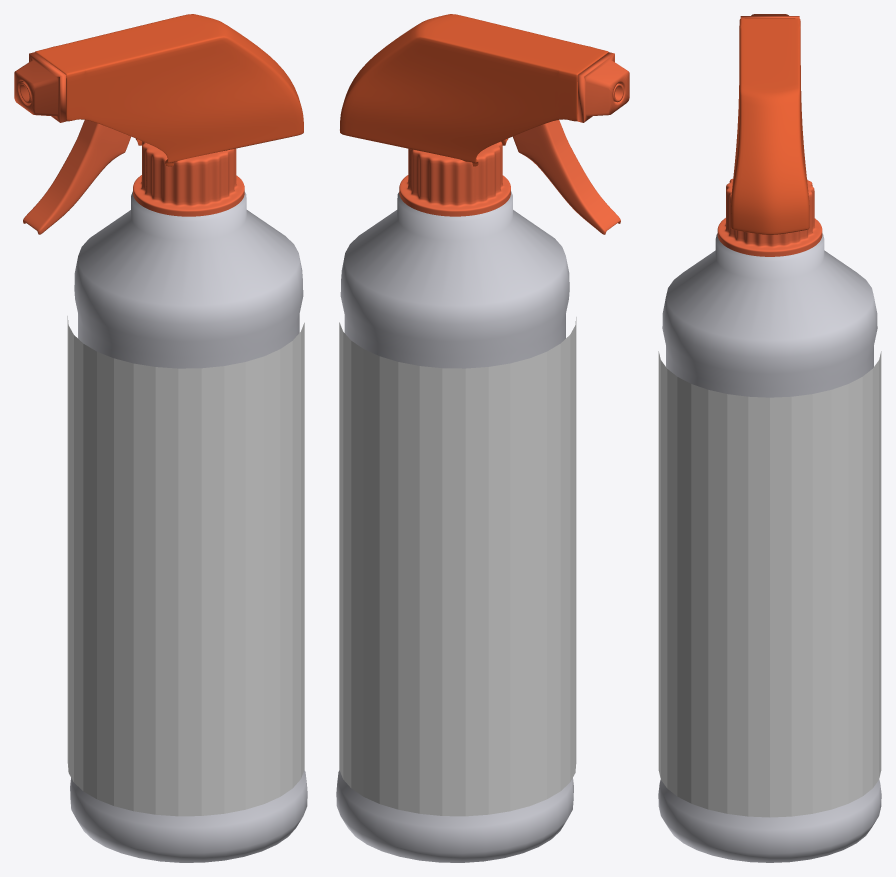
The model's file is spray_bottle_v15.glb.
The picture shows the model from 3 angles, left to right: view 1: azimuth 30°, elevation 25°; view 2: azimuth 150°, elevation 25°; view 3: azimuth 270°, elevation 25°; orthographic projection. The views are drawn at different scales.
Visible parts, largest first — view 1: label, bottle, spray_nogal_back, cap, spray_handle, spray_nogel; view 2: label, bottle, spray_nogal_back, cap, spray_handle, spray_nogel; view 3: label, bottle, spray_nogal_back, cap.
Boxes of the visible parts, box(x1,y1,x2,y2) form: label: box(67, 316, 304, 816); bottle: box(70, 191, 307, 862); spray_nogal_back: box(35, 14, 303, 166); cap: box(133, 141, 244, 216); spray_handle: box(23, 120, 131, 234); spray_nogel: box(14, 52, 66, 122); label: box(339, 317, 576, 816); bottle: box(336, 191, 573, 862); spray_nogal_back: box(340, 14, 608, 166); cap: box(399, 141, 510, 216); spray_handle: box(512, 120, 620, 234); spray_nogel: box(577, 52, 629, 122); label: box(658, 351, 881, 817); bottle: box(658, 233, 881, 862); spray_nogal_back: box(730, 18, 809, 234); cap: box(717, 178, 822, 256).
Size of the model in its own units: 1.75 by 4.9 by 1.33.
